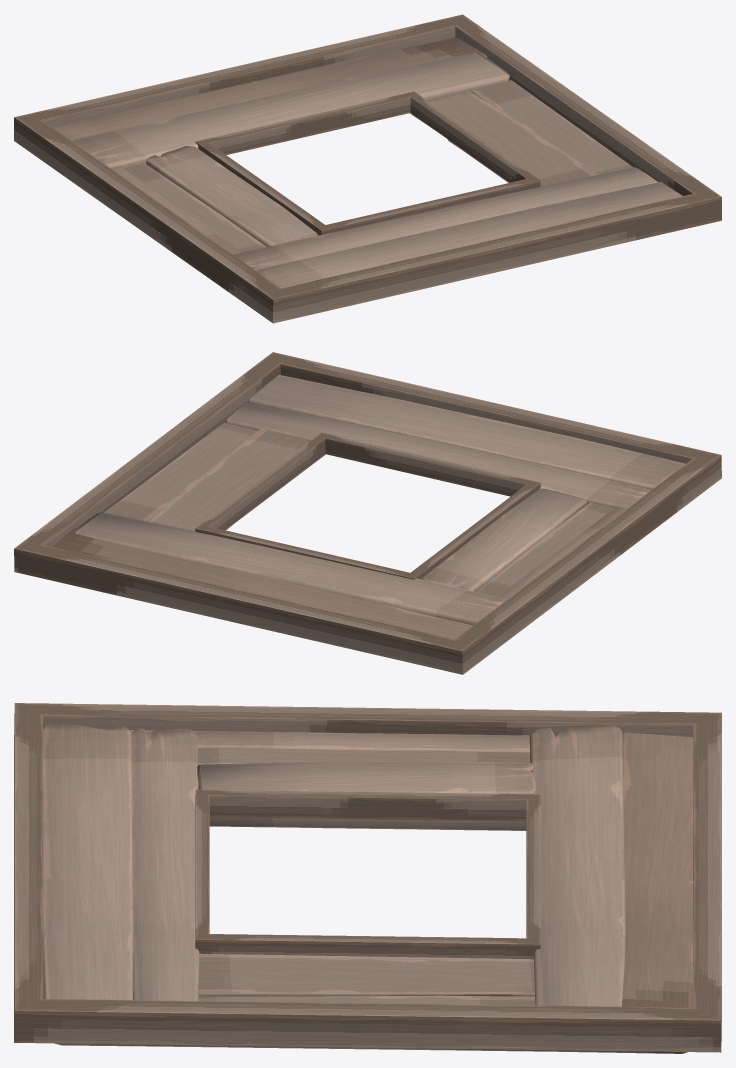
Rendered from SM_Trapdoor.fbx.
3 renders of one model, top to bottom at view 1: azimuth 30°, elevation 25°; view 2: azimuth 150°, elevation 25°; view 3: azimuth 270°, elevation 25°, orthographic. The views are drawn at different scales.
Visible parts, largest first — view 1: SM_Trapdoor_LOD0; view 2: SM_Trapdoor_LOD0; view 3: SM_Trapdoor_LOD0.
Part boxes in pixels (<box>): SM_Trapdoor_LOD0: <box>14,14,721,323</box>; SM_Trapdoor_LOD0: <box>14,352,721,674</box>; SM_Trapdoor_LOD0: <box>14,703,721,1053</box>.
Size of the model in its own units: 500 by 500 by 49.36.
